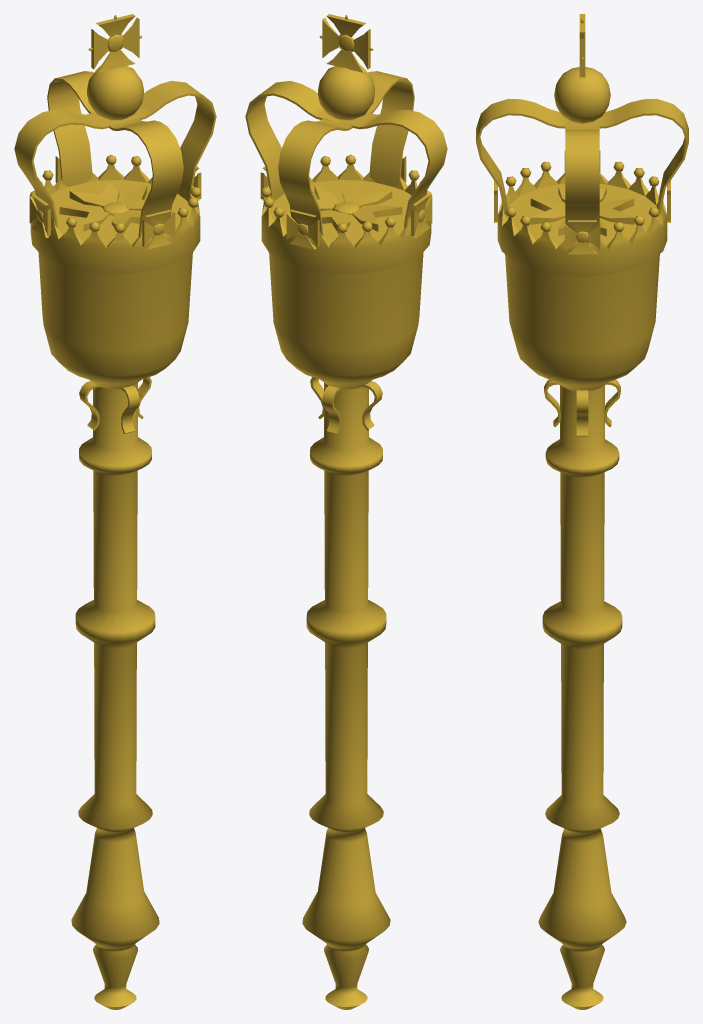
File: Canadian_Parliament_Mace.glb
3 renders of one model, left to right at view 1: azimuth 30°, elevation 25°; view 2: azimuth 150°, elevation 25°; view 3: azimuth 270°, elevation 25°, orthographic.
Parts seen in each view (by area): view 1: unnamed; view 2: unnamed; view 3: unnamed.
Boxes of the visible parts, x1,y1,x2,y2 form: unnamed: [14, 14, 216, 1009]; unnamed: [245, 14, 447, 1009]; unnamed: [476, 14, 688, 1009].
Bounding box in the file's own units: 0.3407 × 1.74 × 0.3407.
Materials: 1 (1 with a texture image).
